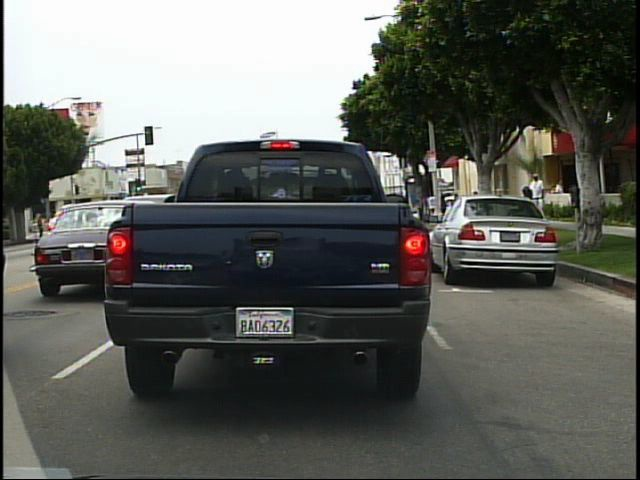person: (524, 170, 548, 220), (550, 177, 570, 220), (32, 210, 47, 242)
